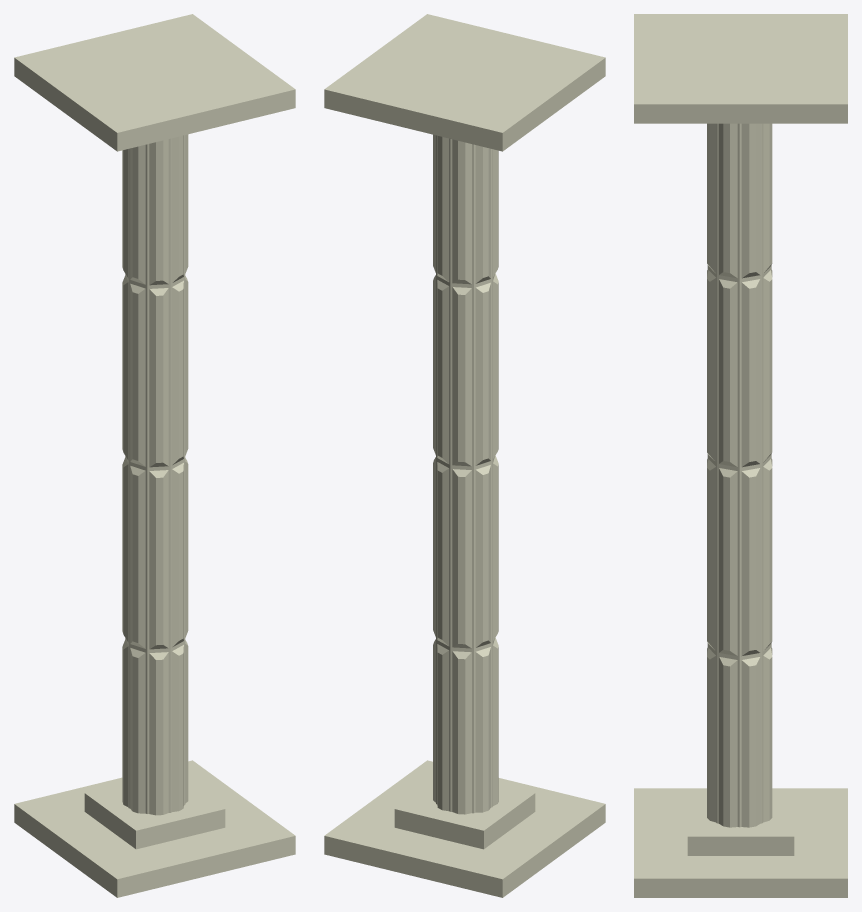
The model's file is Pillar.FBX.
The picture shows the model from 3 angles, left to right: view 1: azimuth 30°, elevation 25°; view 2: azimuth 150°, elevation 25°; view 3: azimuth 270°, elevation 25°; orthographic projection. The views are drawn at different scales.
Parts seen in each view (by area): view 1: Pillar, Pillar Support 002, Pillar Support 004, Pillar Support 003; view 2: Pillar, Pillar Support 002, Pillar Support 004, Pillar Support 003; view 3: Pillar, Pillar Support 002, Pillar Support 004, Pillar Support 003.
Boxes of the visible parts, x1,y1,x2,y2 form: Pillar: (122, 134, 188, 815); Pillar Support 002: (14, 14, 295, 151); Pillar Support 004: (14, 760, 295, 897); Pillar Support 003: (84, 782, 225, 849); Pillar: (433, 134, 498, 814); Pillar Support 002: (324, 14, 605, 151); Pillar Support 004: (324, 760, 605, 897); Pillar Support 003: (394, 781, 535, 849); Pillar: (707, 123, 772, 827); Pillar Support 002: (634, 14, 847, 123); Pillar Support 004: (634, 788, 847, 897); Pillar Support 003: (687, 791, 794, 855).
Bounding box in the file's own units: 1 × 4.1 × 1.
